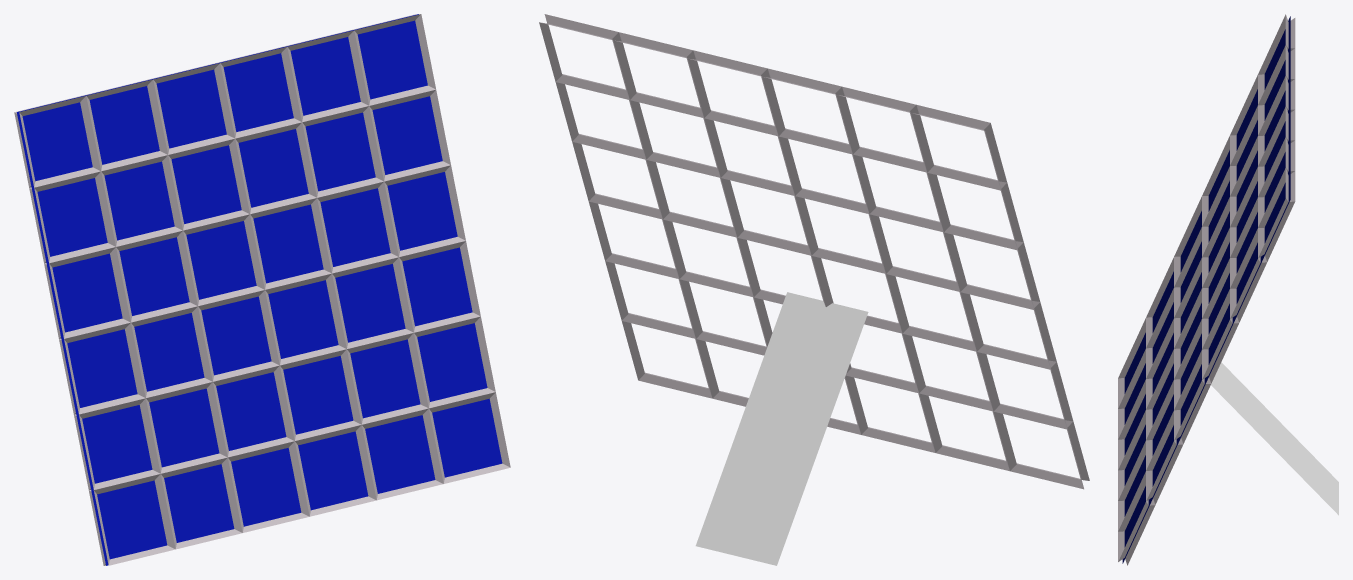
Rendered from solarpanel2.fbx.
3 views of the same model, side by side, from view 1: azimuth 30°, elevation 25°; view 2: azimuth 150°, elevation 25°; view 3: azimuth 270°, elevation 25° (orthographic). The views are drawn at different scales.
Visible parts, largest first — view 1: Plane.001; view 2: Plane.001, Plane; view 3: Plane.001, Plane.
Boxes of the visible parts, x1,y1,x2,y2 form: Plane.001: [14, 14, 510, 565]; Plane.001: [539, 14, 1089, 489]; Plane: [695, 292, 868, 565]; Plane.001: [1118, 14, 1295, 565]; Plane: [1211, 362, 1338, 515].
Size of the model in its own units: 200 by 199 by 101.
